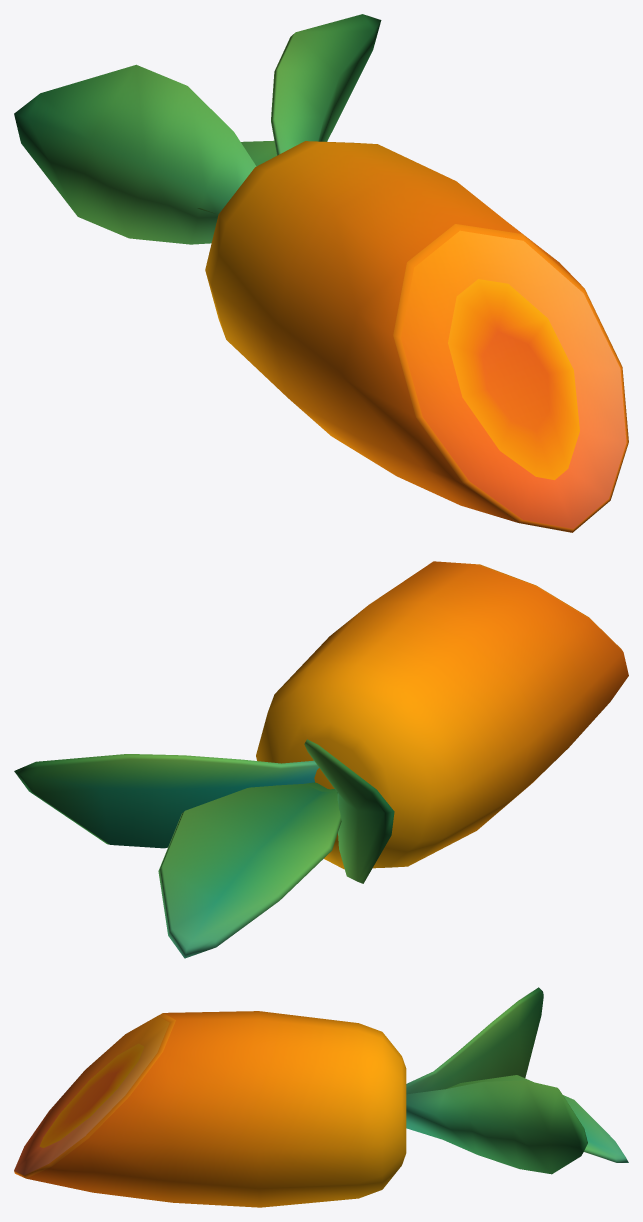
Rendered from carrot_002.fbx.
3 renders of one model, top to bottom at view 1: azimuth 30°, elevation 25°; view 2: azimuth 150°, elevation 25°; view 3: azimuth 270°, elevation 25°, orthographic. The views are drawn at different scales.
Parts seen in each view (by area): view 1: carrot_002; view 2: carrot_002; view 3: carrot_002.
Boxes of the visible parts, x1,y1,x2,y2 form: carrot_002: (14,14,628,532); carrot_002: (14,561,628,958); carrot_002: (14,987,628,1207).
Bounding box in the file's own units: 9.73 × 18.86 × 6.13.
